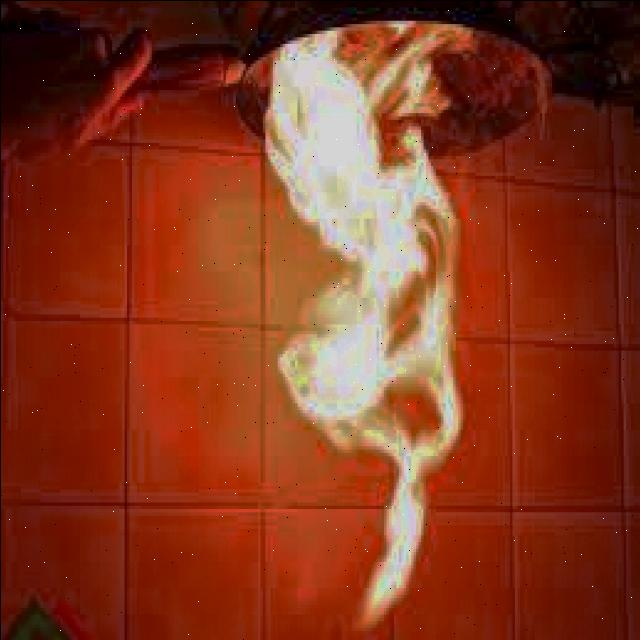api: (261, 11, 498, 621)
